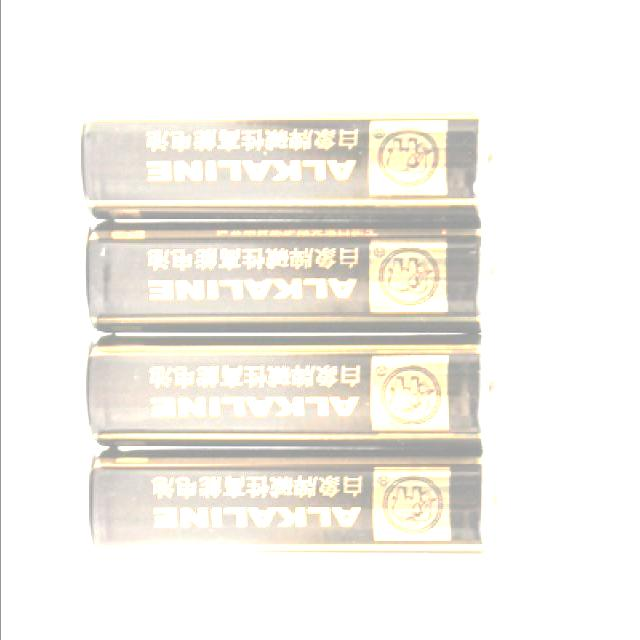AA: (75, 105, 512, 219), (76, 338, 519, 446), (87, 453, 510, 565), (83, 224, 514, 333)
